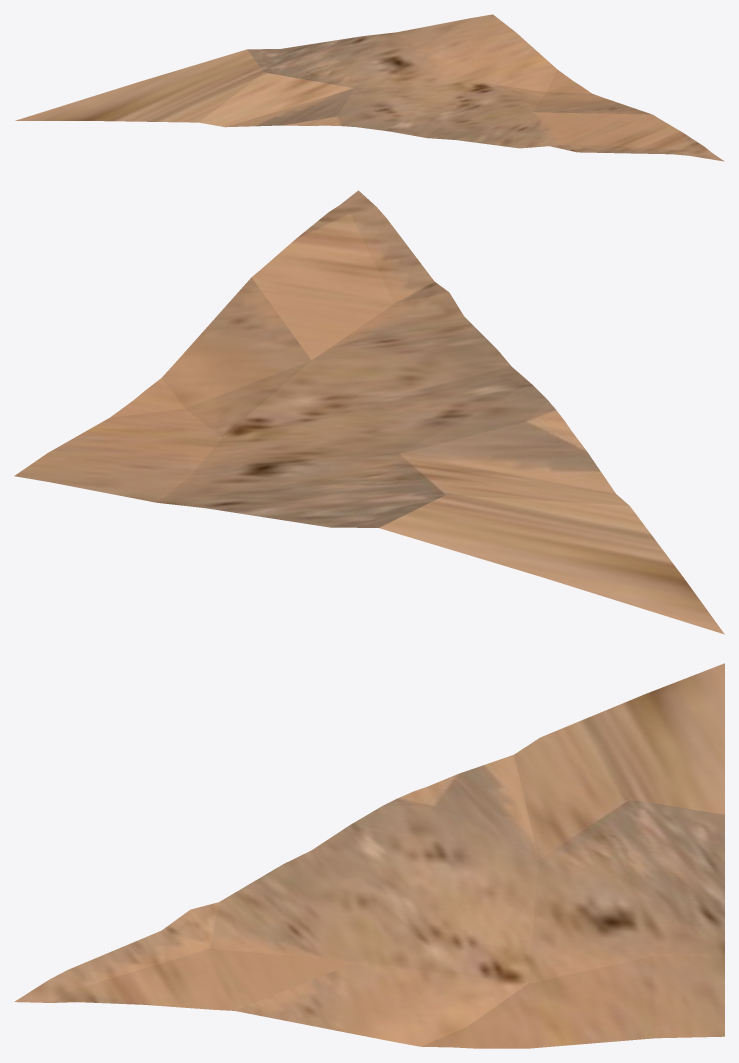
3 views of the same model, one above another, from view 1: azimuth 30°, elevation 25°; view 2: azimuth 150°, elevation 25°; view 3: azimuth 270°, elevation 25° (orthographic). The views are drawn at different scales.
Size of the model in its own units: 2.75 by 0.2102 by 2.31.
1 material, 1 textured.
